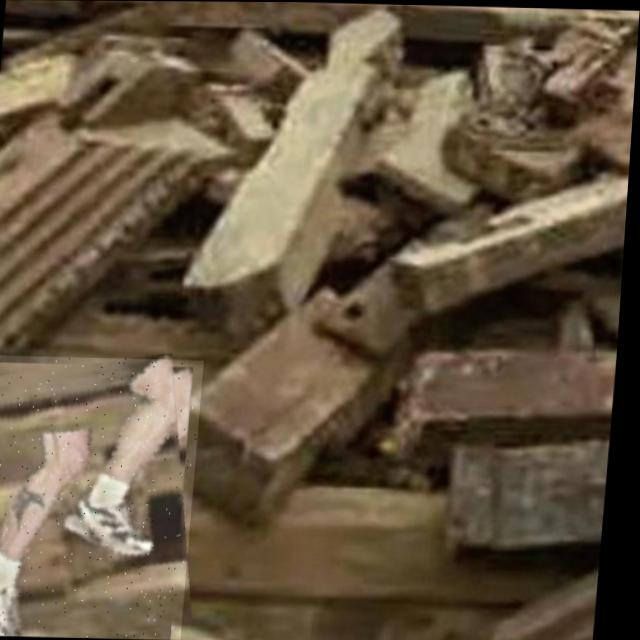Person in Rubble: (0, 354, 208, 639)
